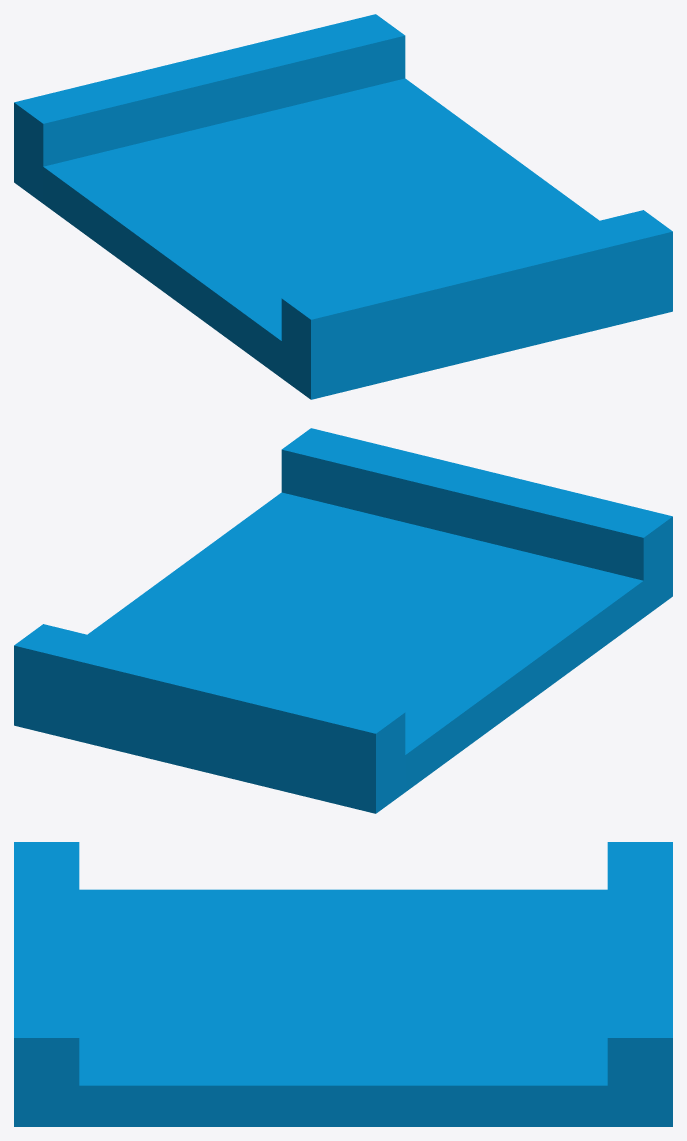
File: Bridge_04.fbx
The picture shows the model from 3 angles, top to bottom: view 1: azimuth 30°, elevation 25°; view 2: azimuth 150°, elevation 25°; view 3: azimuth 270°, elevation 25°; orthographic projection. The views are drawn at different scales.
Parts seen in each view (by area): view 1: Bridge_04; view 2: Bridge_04; view 3: Bridge_04.
Boxes of the visible parts, x1,y1,x2,y2 form: Bridge_04: (14,14,672,399); Bridge_04: (14,428,672,813); Bridge_04: (14,842,672,1126).
Size of the model in its own units: 10.77 by 2.28 by 15.31.
